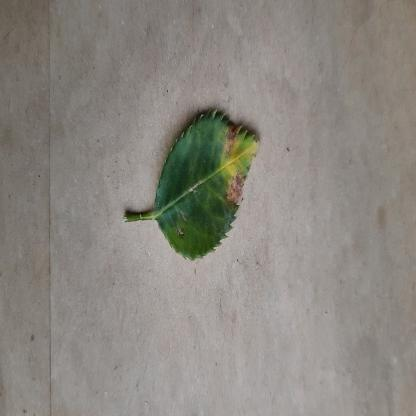downy-mildew: (155, 104, 261, 258)
